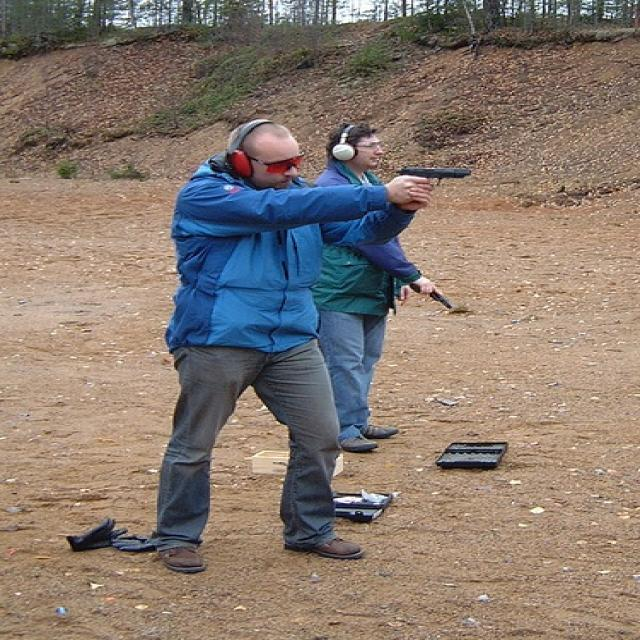gun: (393, 152, 481, 206), (401, 271, 456, 316)
